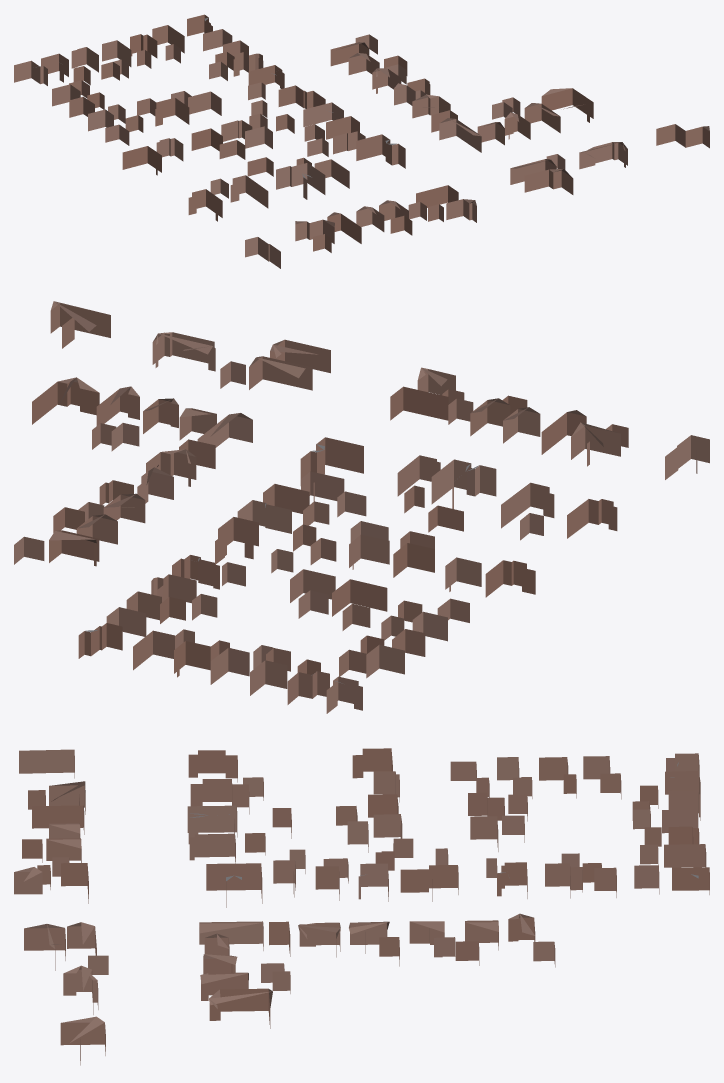
File: c_1643_17825_buildings_residential.glb
3 views of the same model, one above another, from view 1: azimuth 30°, elevation 25°; view 2: azimuth 150°, elevation 25°; view 3: azimuth 270°, elevation 25° (orthographic). The views are drawn at different scales.
Visible parts, largest first — view 1: geometry_0; view 2: geometry_0; view 3: geometry_0.
Part boxes in pixels (x1=…): geometry_0: x1=14, y1=14, x2=709, y2=268; geometry_0: x1=14, y1=301, x2=709, y2=713; geometry_0: x1=14, y1=748, x2=709, y2=1065.
Bounding box in the file's own units: 264 × 11.08 × 260.
